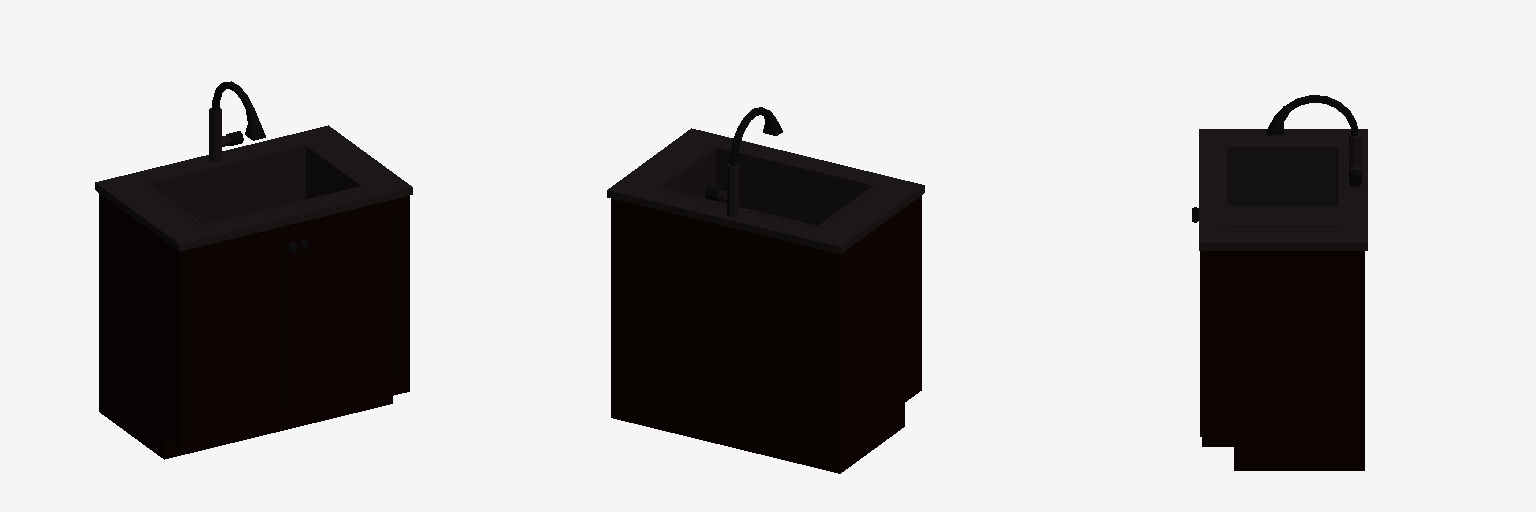
The model's file is MarbleSink1KitchenCabinet1.obj.
The picture shows the model from 3 angles: view 1: azimuth 30°, elevation 25°; view 2: azimuth 150°, elevation 25°; view 3: azimuth 270°, elevation 25°; orthographic projection.
Parts seen in each view (by area): view 1: MarbleSinkKitchenCabinet1_Cube.002, DoorR1MarbleSinkKitchenCabinet1_Cube.012, DoorL1MarbleSinkKitchenCabinet1_Cube.011, FaucetSpout1MarbleSinkKitchenCabinet1_Cube.010; view 2: MarbleSinkKitchenCabinet1_Cube.002, FaucetSpout1MarbleSinkKitchenCabinet1_Cube.010; view 3: MarbleSinkKitchenCabinet1_Cube.002, FaucetSpout1MarbleSinkKitchenCabinet1_Cube.010.
Boxes of the visible parts, x1=… form: MarbleSinkKitchenCabinet1_Cube.002: x1=95, y1=108, x2=412, y2=459; DoorR1MarbleSinkKitchenCabinet1_Cube.012: x1=187, y1=229, x2=297, y2=439; DoorL1MarbleSinkKitchenCabinet1_Cube.011: x1=296, y1=203, x2=403, y2=413; FaucetSpout1MarbleSinkKitchenCabinet1_Cube.010: x1=212, y1=81, x2=265, y2=140; MarbleSinkKitchenCabinet1_Cube.002: x1=607, y1=128, x2=924, y2=473; FaucetSpout1MarbleSinkKitchenCabinet1_Cube.010: x1=729, y1=107, x2=782, y2=165; MarbleSinkKitchenCabinet1_Cube.002: x1=1199, y1=129, x2=1367, y2=470; FaucetSpout1MarbleSinkKitchenCabinet1_Cube.010: x1=1267, y1=95, x2=1357, y2=135.
Bounding box in the file's own units: 0.9707 × 1.26 × 0.6359.